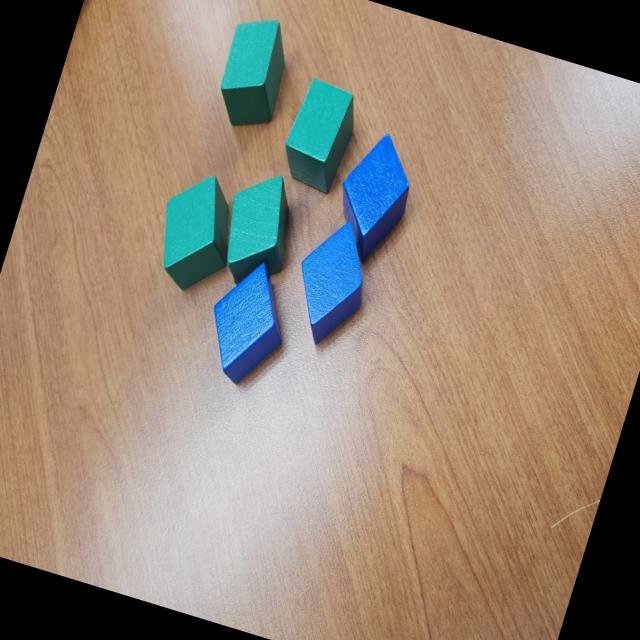blue: (194, 250, 302, 394), (280, 211, 384, 353), (322, 125, 424, 268)
green: (145, 165, 250, 299), (210, 165, 308, 297), (207, 9, 300, 135), (275, 76, 366, 196)
